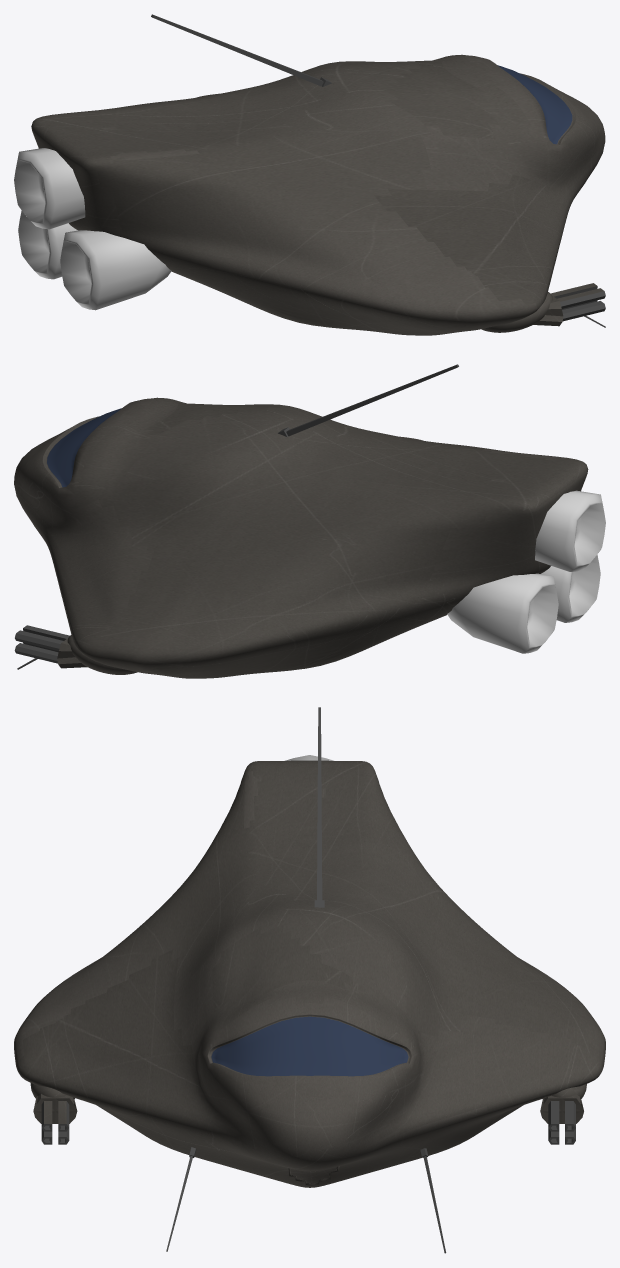
The model's file is spaceship2.0.fbx.
3 renders of one model, top to bottom at view 1: azimuth 30°, elevation 25°; view 2: azimuth 150°, elevation 25°; view 3: azimuth 270°, elevation 25°, orthographic.
Parts seen in each view (by area): view 1: SpaceShip; view 2: SpaceShip; view 3: SpaceShip.
Part boxes in pixels (x1=…): SpaceShip: x1=14, y1=14, x2=605, y2=335; SpaceShip: x1=14, y1=364, x2=605, y2=678; SpaceShip: x1=14, y1=707, x2=605, y2=1253.
Bounding box in the file's own units: 1374 × 813 × 1216.
